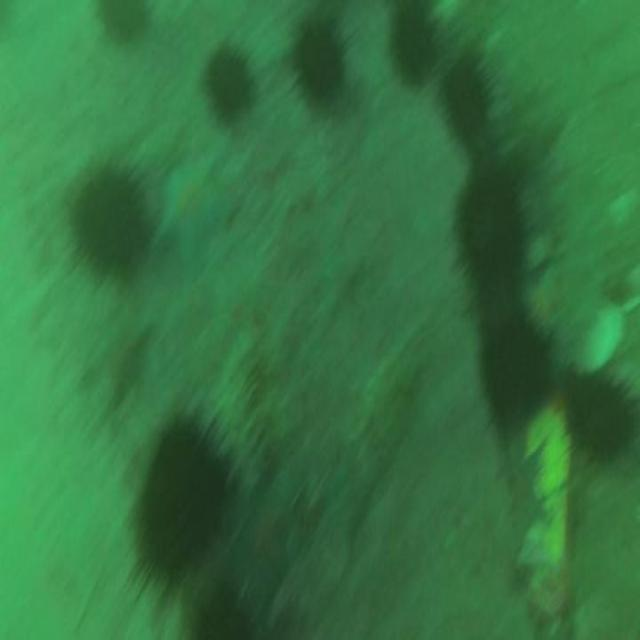echinus: (132, 428, 228, 578), (452, 158, 524, 292), (484, 316, 552, 433), (73, 175, 144, 283), (568, 364, 635, 462), (292, 21, 346, 101), (391, 1, 438, 86), (204, 46, 252, 120), (446, 61, 490, 140), (97, 0, 148, 44)
holothurian: (228, 329, 276, 450)
starfish: (153, 125, 229, 251), (234, 463, 297, 577), (503, 446, 550, 544)
